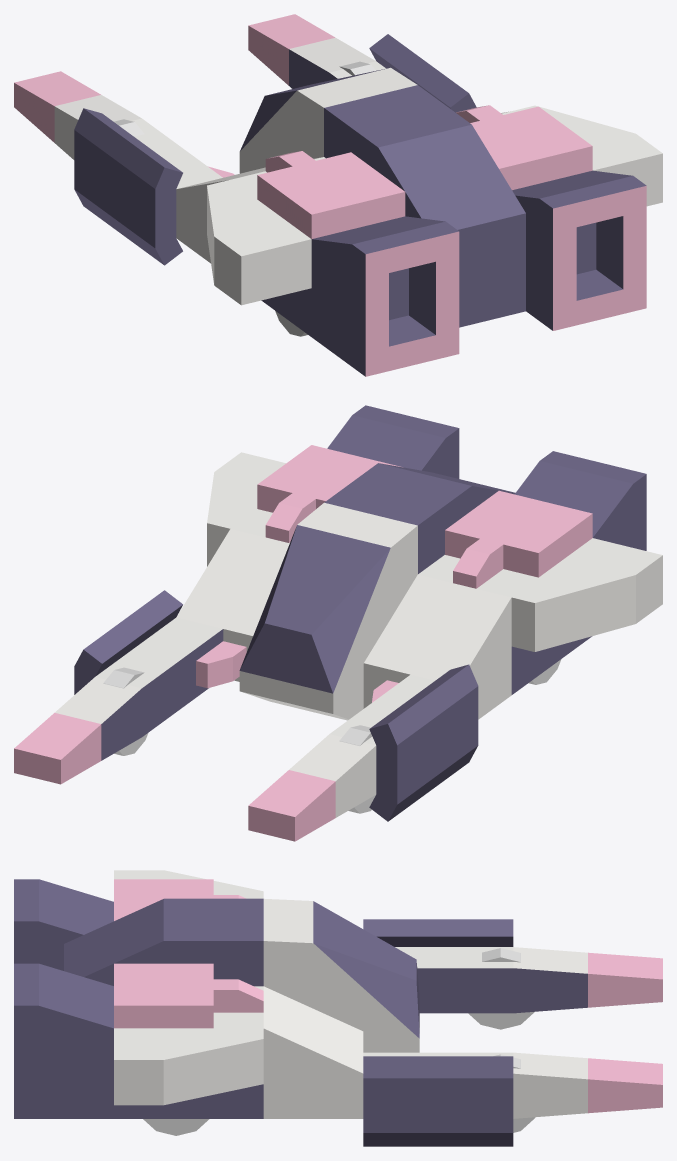
Rendered from vehicle_blin.glb.
3 views of the same model, one above another, from view 1: azimuth 30°, elevation 25°; view 2: azimuth 150°, elevation 25°; view 3: azimuth 270°, elevation 25° (orthographic). The views are drawn at different scales.
Visible parts, largest first — view 1: craft_miner; view 2: craft_miner, wheel_fr, wheel_fl; view 3: craft_miner, wheel_fl, wheel_br.
Part boxes in pixels (bbox=[...]): craft_miner: bbox=[14, 14, 662, 376]; craft_miner: bbox=[14, 405, 662, 841]; wheel_fr: bbox=[103, 667, 148, 755]; wheel_fl: bbox=[339, 725, 375, 813]; craft_miner: bbox=[14, 870, 662, 1146]; wheel_fl: bbox=[468, 948, 534, 1029]; wheel_br: bbox=[143, 1119, 209, 1135].
Bounding box in the file's own units: 2.7 × 1.05 × 3.9.
